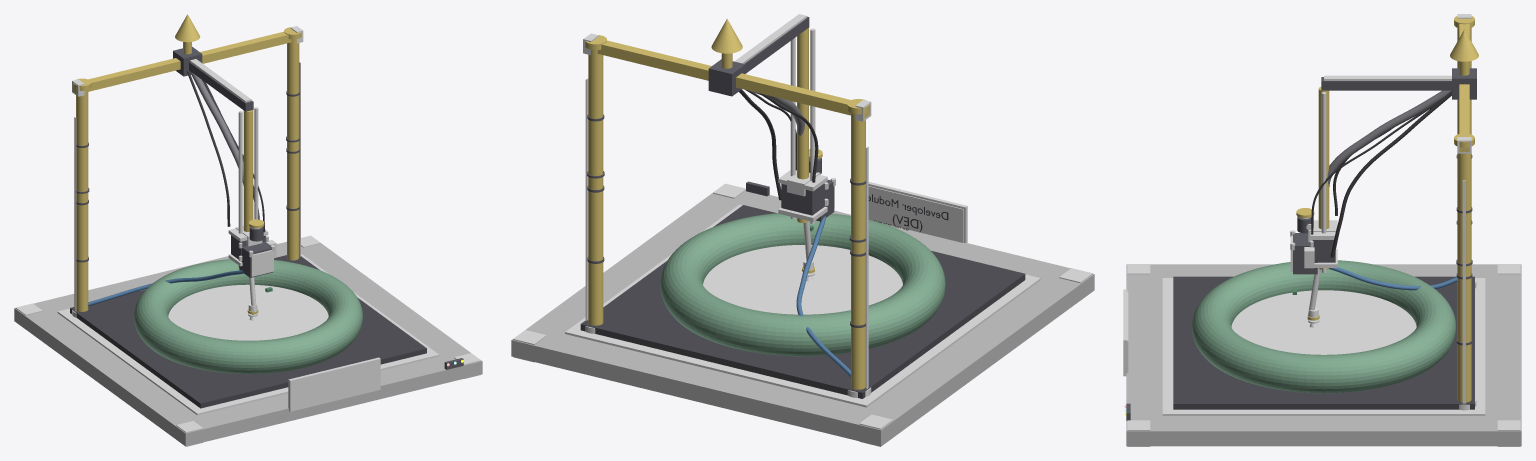
The model's file is Developermodule.glb.
3 renders of one model, left to right at view 1: azimuth 30°, elevation 25°; view 2: azimuth 150°, elevation 25°; view 3: azimuth 270°, elevation 25°, orthographic. The views are drawn at different scales.
Visible parts, largest first — view 1: Base_Platform, Chuck_Ring, Base_Pocket, Ring_Lip_Outer, Label_Border, Pillar_R, Pillar_L, Base_Rim, Top_Bar, Z_Shaft_Main, Conduit_Main, VacLine_Arm (+8 smaller); view 2: Base_Platform, Chuck_Ring, Base_Pocket, Ring_Lip_Outer, Base_Rim, Pillar_R, Pillar_L, Top_Bar, Label_Plate, Z_Shaft_Main, Top_Junction, Z_Carriage (+9 smaller); view 3: Base_Platform, Chuck_Ring, Base_Pocket, Ring_Lip_Outer, Base_Rim, Pillar_R, Reach_Arm, Conduit_Main, Z_Shaft_Main, Cable_A, Encoder_R, Z_Guide_0.10 (+9 smaller).
Boxes of the visible parts, x1,y1,x2,y2 form: Base_Platform: (14,242,482,446); Chuck_Ring: (134,259,362,374); Base_Pocket: (70,255,426,408); Ring_Lip_Outer: (168,284,328,340); Label_Border: (288,357,380,411); Pillar_R: (287,39,299,260); Pillar_L: (76,90,88,311); Base_Rim: (57,253,439,415); Top_Bar: (73,31,291,93); Z_Shaft_Main: (243,110,253,231); Conduit_Main: (190,71,243,185); VacLine_Arm: (88,270,243,306); Base_Platform: (511,190,1094,446); Chuck_Ring: (660,213,945,356); Base_Pocket: (580,205,1025,398); Ring_Lip_Outer: (703,245,902,314); Base_Rim: (565,204,1040,407); Pillar_R: (588,50,603,325); Pillar_L: (851,113,865,389); Top_Bar: (597,40,869,118); Label_Plate: (868,186,963,242); Z_Shaft_Main: (797,28,808,222); Top_Junction: (708,59,745,96); Z_Carriage: (781,183,824,215); Base_Platform: (1126,264,1521,446); Chuck_Ring: (1192,260,1455,393); Base_Pocket: (1173,276,1474,409); Ring_Lip_Outer: (1231,290,1416,354); Base_Rim: (1162,278,1485,415); Pillar_R: (1457,153,1471,402); Reach_Arm: (1321,77,1451,90); Conduit_Main: (1327,90,1451,186); Z_Shaft_Main: (1318,87,1329,269); Cable_A: (1330,91,1451,257); Encoder_R: (1462,180,1465,403); Z_Guide_0.10: (1321,92,1326,272).
Bounding box in the file's own units: 3.8 × 3.58 × 3.83.
